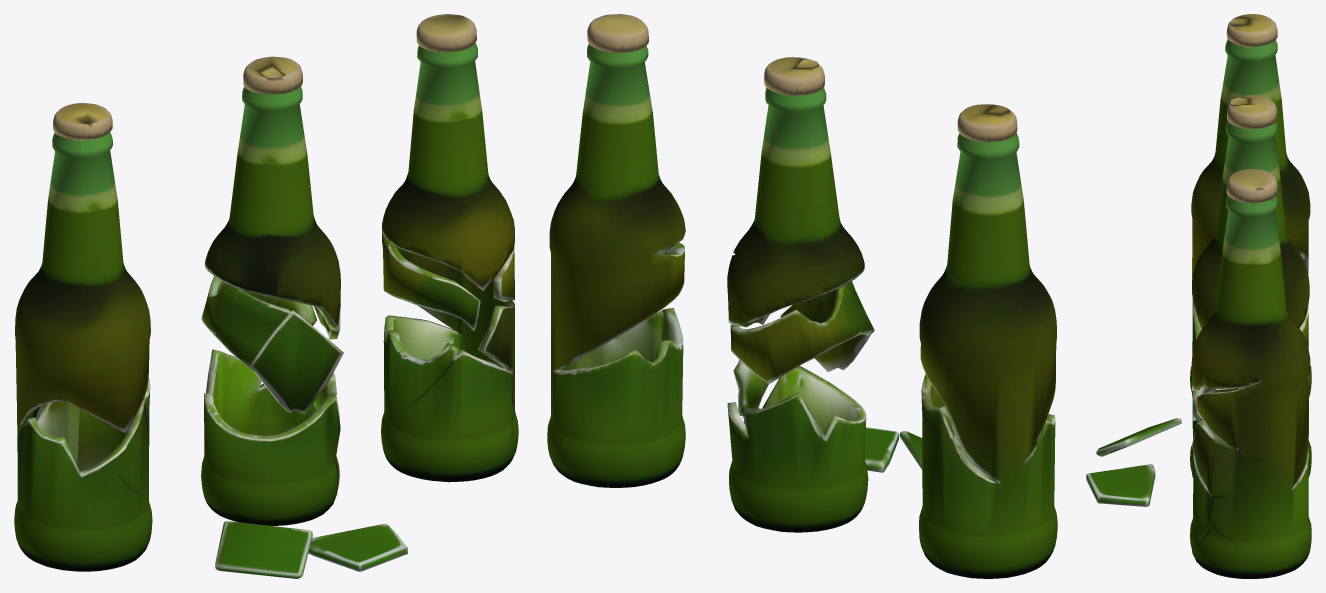
Rendered from broken_beer_bottles_d16e9f56_v2.glb.
3 renders of one model, left to right at view 1: azimuth 30°, elevation 25°; view 2: azimuth 150°, elevation 25°; view 3: azimuth 270°, elevation 25°, orthographic. The views are drawn at different scales.
Parts seen in each view (by area): view 1: material; view 2: material; view 3: material.
Part boxes in pixels (x1,y1,x2,y2): material: (14, 14, 518, 578); material: (547, 14, 1057, 578); material: (1086, 14, 1311, 578).
Size of the model in its own units: 1.9 by 1.63 by 0.8787.
Materials: 1 (1 with a texture image).
